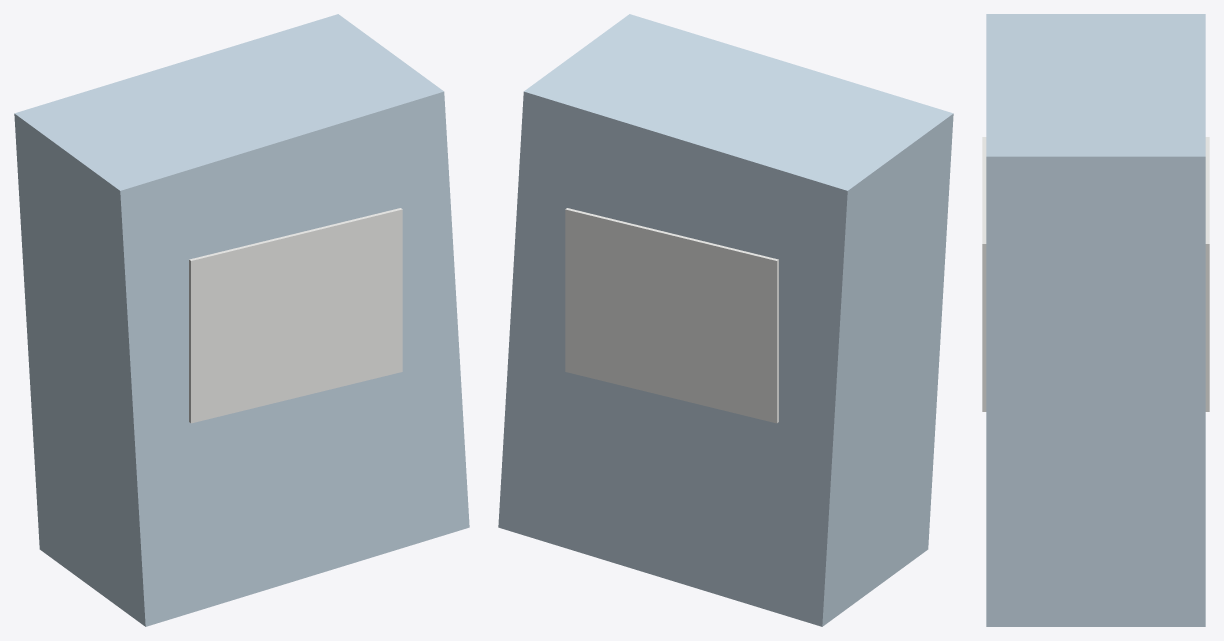
The model's file is sugar.glb.
The picture shows the model from 3 angles, left to right: view 1: azimuth 30°, elevation 25°; view 2: azimuth 150°, elevation 25°; view 3: azimuth 270°, elevation 25°; orthographic projection. The views are drawn at different scales.
Visible parts, largest first — view 1: sugar; view 2: sugar; view 3: sugar.
Boxes of the visible parts, bbox=[...] form: sugar: bbox=[14, 14, 469, 626]; sugar: bbox=[498, 14, 953, 626]; sugar: bbox=[982, 14, 1209, 626].
Bounding box in the file's own units: 0.4952 × 0.6265 × 0.27.
